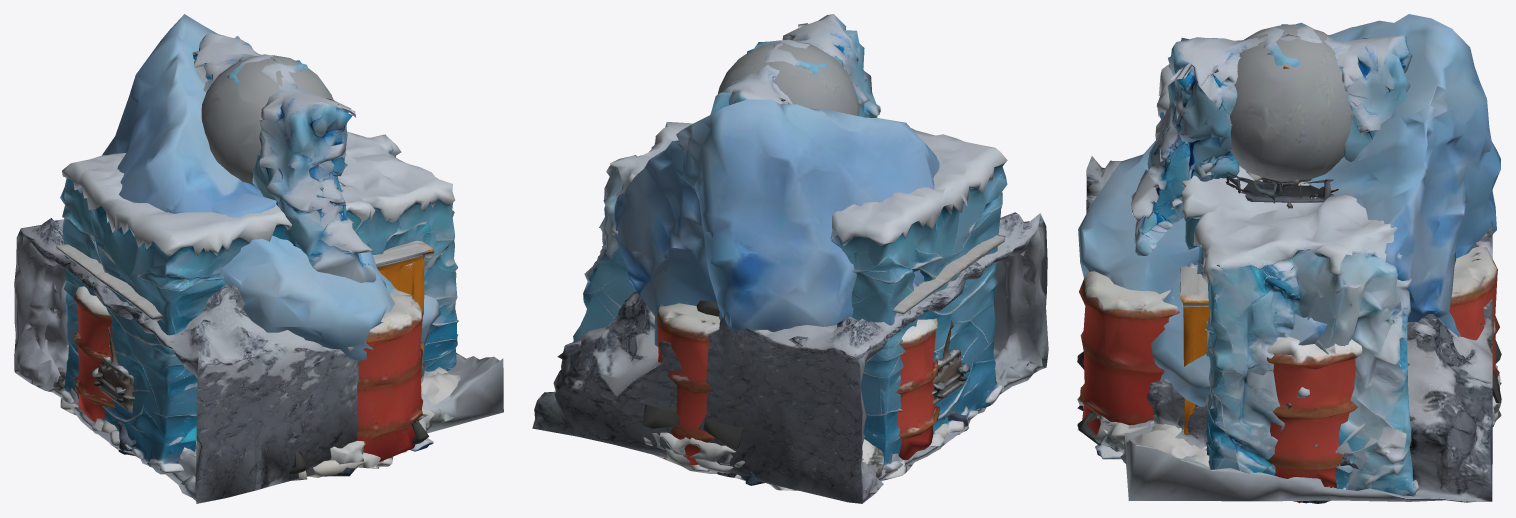
The model's file is ice.glb.
3 renders of one model, left to right at view 1: azimuth 30°, elevation 25°; view 2: azimuth 150°, elevation 25°; view 3: azimuth 270°, elevation 25°, orthographic. The views are drawn at different scales.
Parts seen in each view (by area): view 1: icecliff, mountain_b, icerock_a, arch2, barrels, radar, station, mountain_c, ship, igloo, snowmobile; view 2: icerock_a, mountain_b, icecliff, barrels, arch2, radar, station, snowmobile, ship, mountain_c, icerock_b, igloo; view 3: icecliff, icerock_a, mountain_b, barrels, arch2, radar, station, mountain_c, snowmobile.
Part boxes in pixels (bbox=[...]): icecliff: bbox=[60, 131, 458, 474]; mountain_b: bbox=[14, 218, 503, 503]; icerock_a: bbox=[97, 14, 440, 360]; arch2: bbox=[191, 32, 433, 467]; barrels: bbox=[73, 286, 423, 461]; radar: bbox=[201, 55, 337, 185]; station: bbox=[56, 240, 434, 354]; mountain_c: bbox=[180, 366, 460, 464]; ship: bbox=[91, 327, 134, 413]; igloo: bbox=[101, 420, 406, 480]; snowmobile: bbox=[289, 420, 428, 474]; icerock_a: bbox=[614, 99, 949, 346]; mountain_b: bbox=[532, 212, 1048, 503]; icecliff: bbox=[573, 122, 1007, 473]; barrels: bbox=[656, 303, 939, 465]; arch2: bbox=[710, 14, 880, 117]; radar: bbox=[717, 41, 859, 116]; station: bbox=[893, 234, 1005, 314]; snowmobile: bbox=[642, 300, 742, 448]; ship: bbox=[931, 320, 969, 405]; mountain_c: bbox=[643, 432, 744, 467]; icerock_b: bbox=[680, 439, 940, 490]; igloo: bbox=[654, 423, 948, 473]; icecliff: bbox=[1156, 64, 1418, 496]; icerock_a: bbox=[1078, 14, 1500, 406]; mountain_b: bbox=[1086, 156, 1492, 502]; barrels: bbox=[1079, 246, 1499, 503]; arch2: bbox=[1095, 22, 1412, 459]; radar: bbox=[1225, 24, 1352, 203]; station: bbox=[1179, 265, 1330, 499]; mountain_c: bbox=[1077, 365, 1501, 467]; snowmobile: bbox=[1077, 253, 1501, 445].
Bounding box in the file's own units: 1 × 1 × 1.
15 materials, 15 textured.
